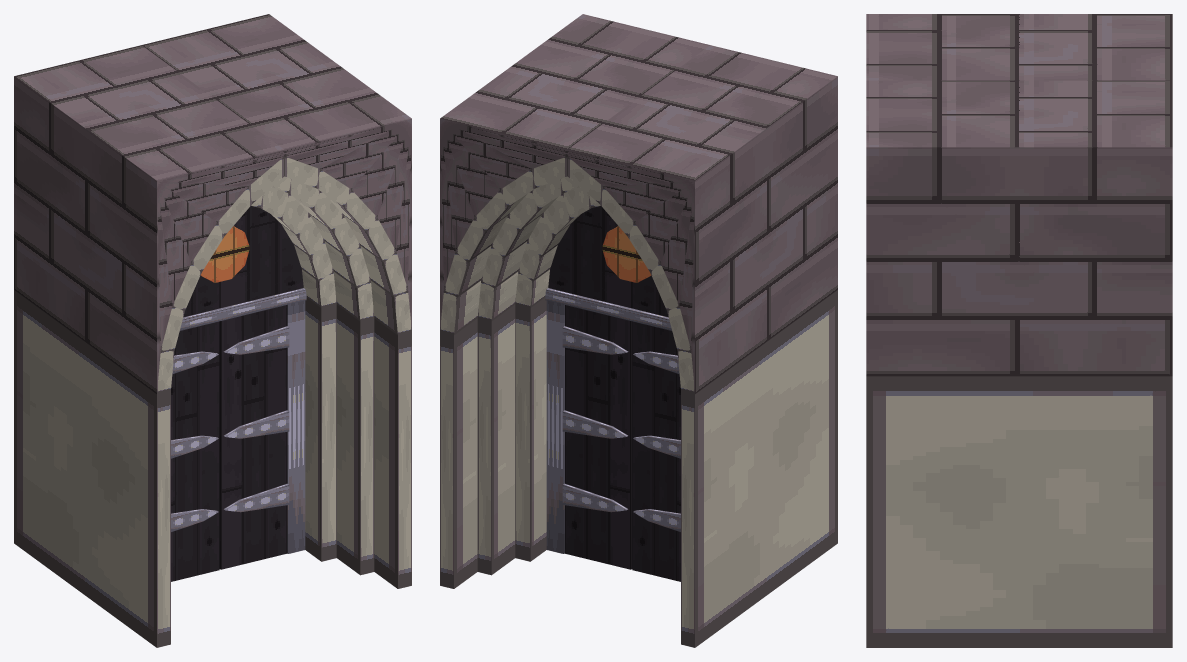
The model's file is door_boss_a.glb.
3 renders of one model, left to right at view 1: azimuth 30°, elevation 25°; view 2: azimuth 150°, elevation 25°; view 3: azimuth 270°, elevation 25°, orthographic. The views are drawn at different scales.
Visible parts, largest first — view 1: portal, leaf_a, leaf_b; view 2: portal, leaf_a, leaf_b; view 3: portal.
Boxes of the visible parts, x1,y1,x2,y2 form: portal: (14,14,411,647); leaf_a: (219,305,289,569); leaf_b: (171,321,219,581); portal: (440,14,837,647); leaf_a: (562,305,632,569); leaf_b: (632,321,680,581); portal: (866,14,1172,647).
Size of the model in its own units: 2 by 3.5 by 1.94.
Materials: 1 (1 with a texture image).
